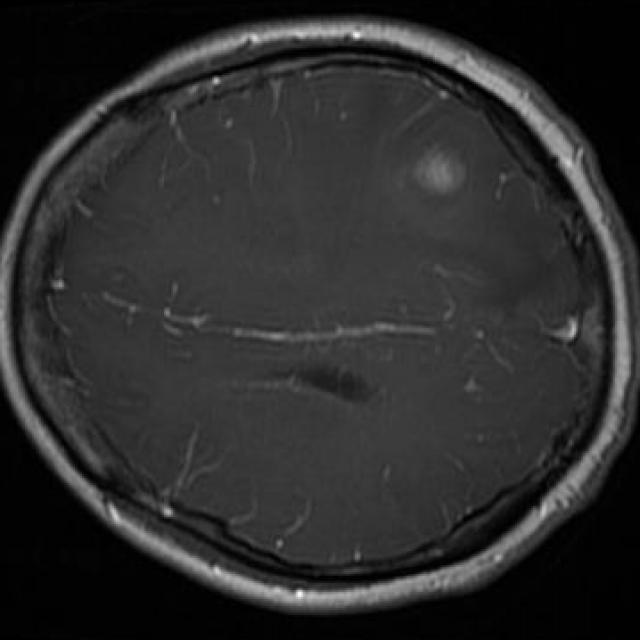glioma: (414, 153, 472, 198)
